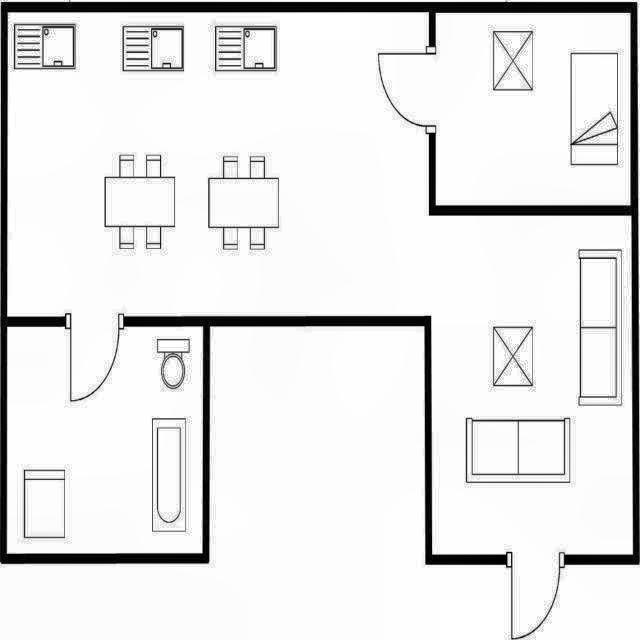room: (7, 12, 633, 556), (7, 327, 203, 553), (436, 13, 630, 205)
